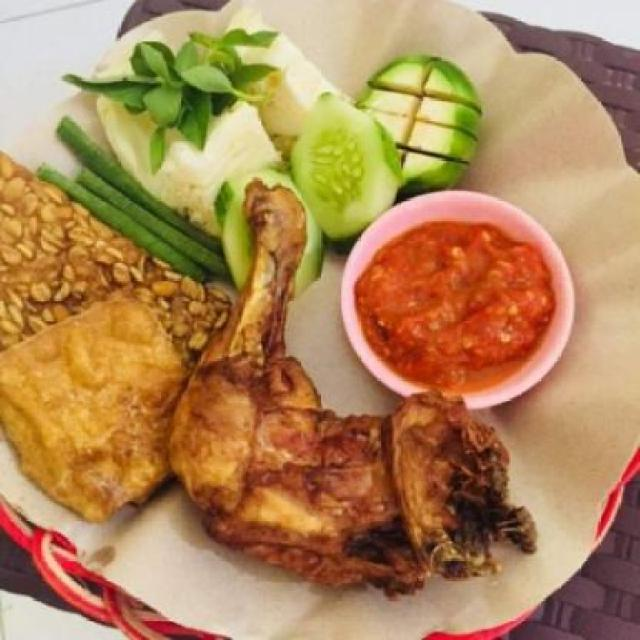Wet Waste: (172, 186, 534, 591), (0, 156, 225, 384), (0, 290, 198, 527)
